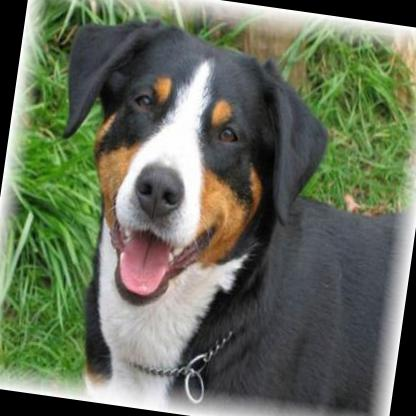EntleBucher: (19, 12, 416, 416)
